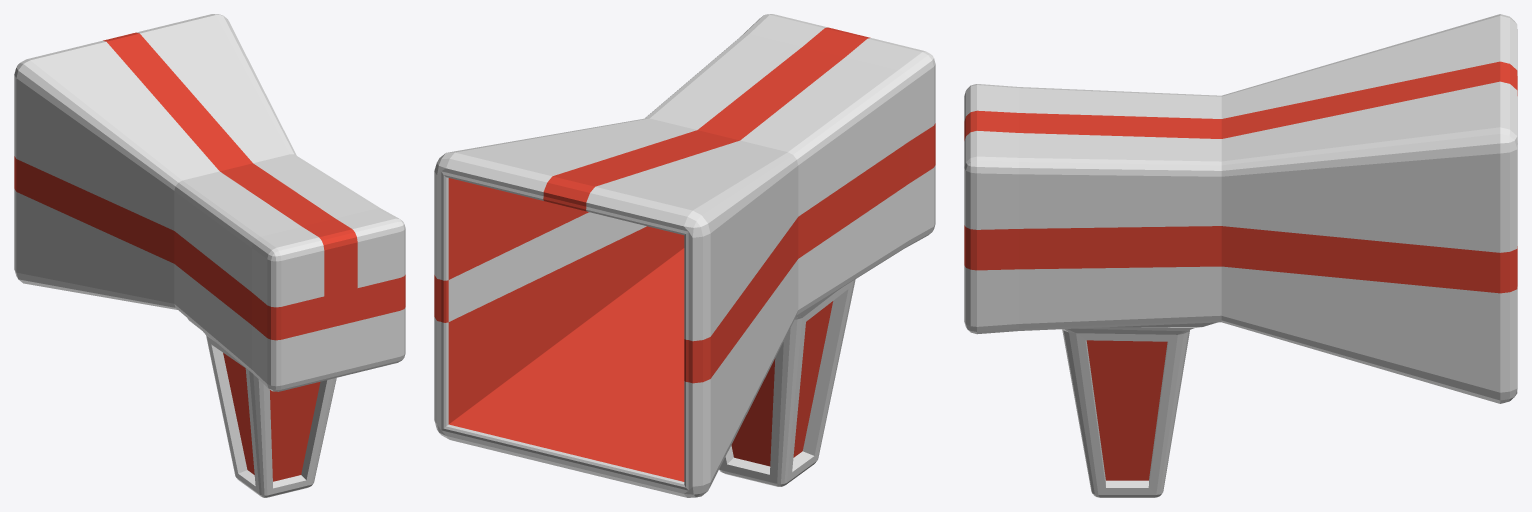
The model's file is rayGUN.fbx.
The picture shows the model from 3 angles, left to right: view 1: azimuth 30°, elevation 25°; view 2: azimuth 150°, elevation 25°; view 3: azimuth 270°, elevation 25°; orthographic projection. The views are drawn at different scales.
Parts seen in each view (by area): view 1: Cube; view 2: Cube; view 3: Cube.
Boxes of the visible parts, x1,y1,x2,y2 form: Cube: (14, 14, 405, 497); Cube: (434, 14, 935, 497); Cube: (964, 14, 1517, 497).
Bounding box in the file's own units: 338 × 508 × 617.
